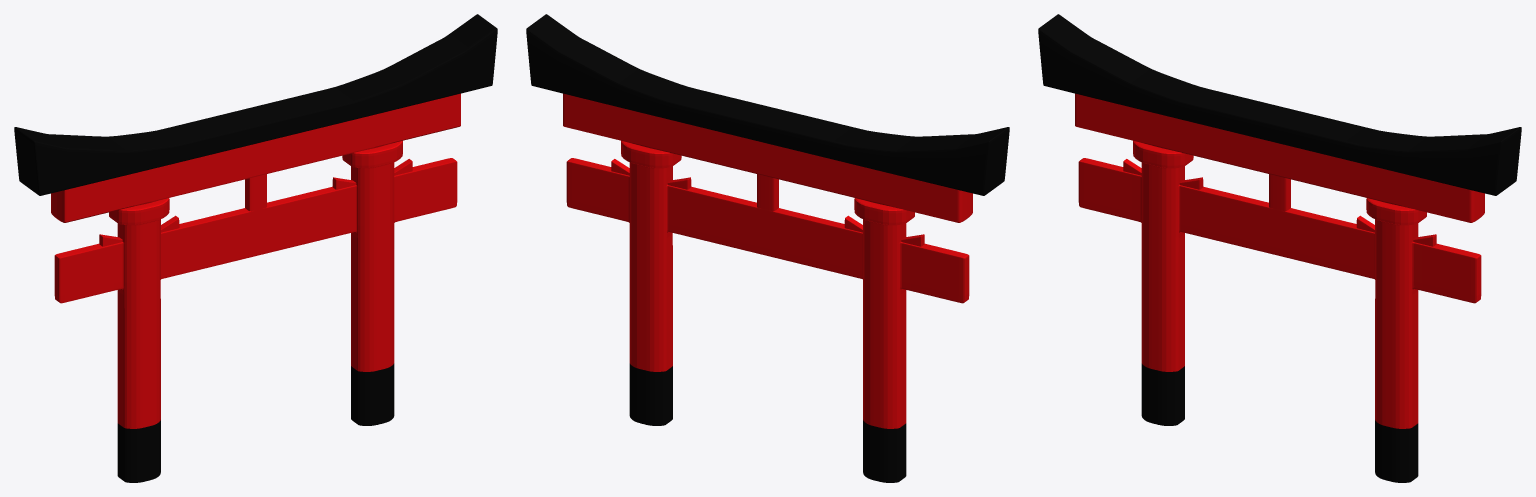
Rendered from Torii.fbx.
The picture shows the model from 3 angles, left to right: view 1: azimuth 30°, elevation 25°; view 2: azimuth 150°, elevation 25°; view 3: azimuth 330°, elevation 25°; orthographic projection.
Visible parts, largest first — view 1: Torii; view 2: Torii; view 3: Torii.
Boxes of the visible parts, box(x1,y1,x2,y2) form: Torii: box(14, 14, 497, 482); Torii: box(526, 14, 1009, 482); Torii: box(1038, 14, 1521, 482).
Size of the model in its own units: 684 by 521 by 56.
